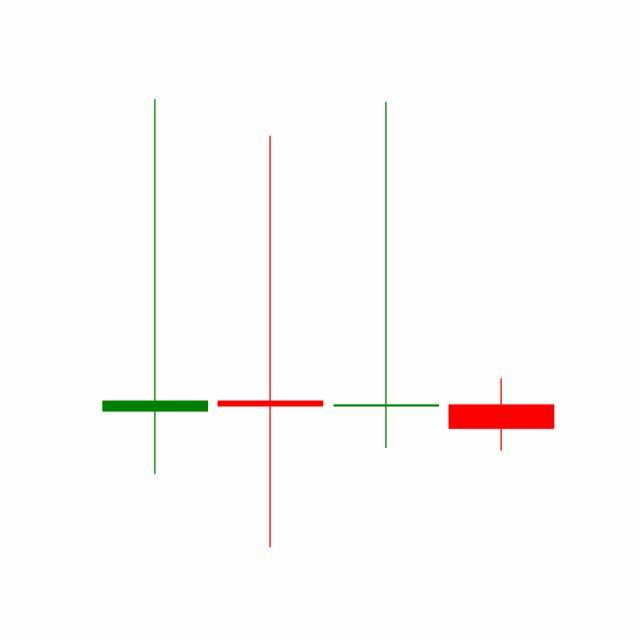Marubozu: (444, 377, 560, 453)
